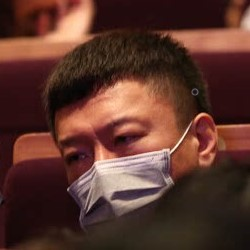mask: (57, 147, 172, 229)
